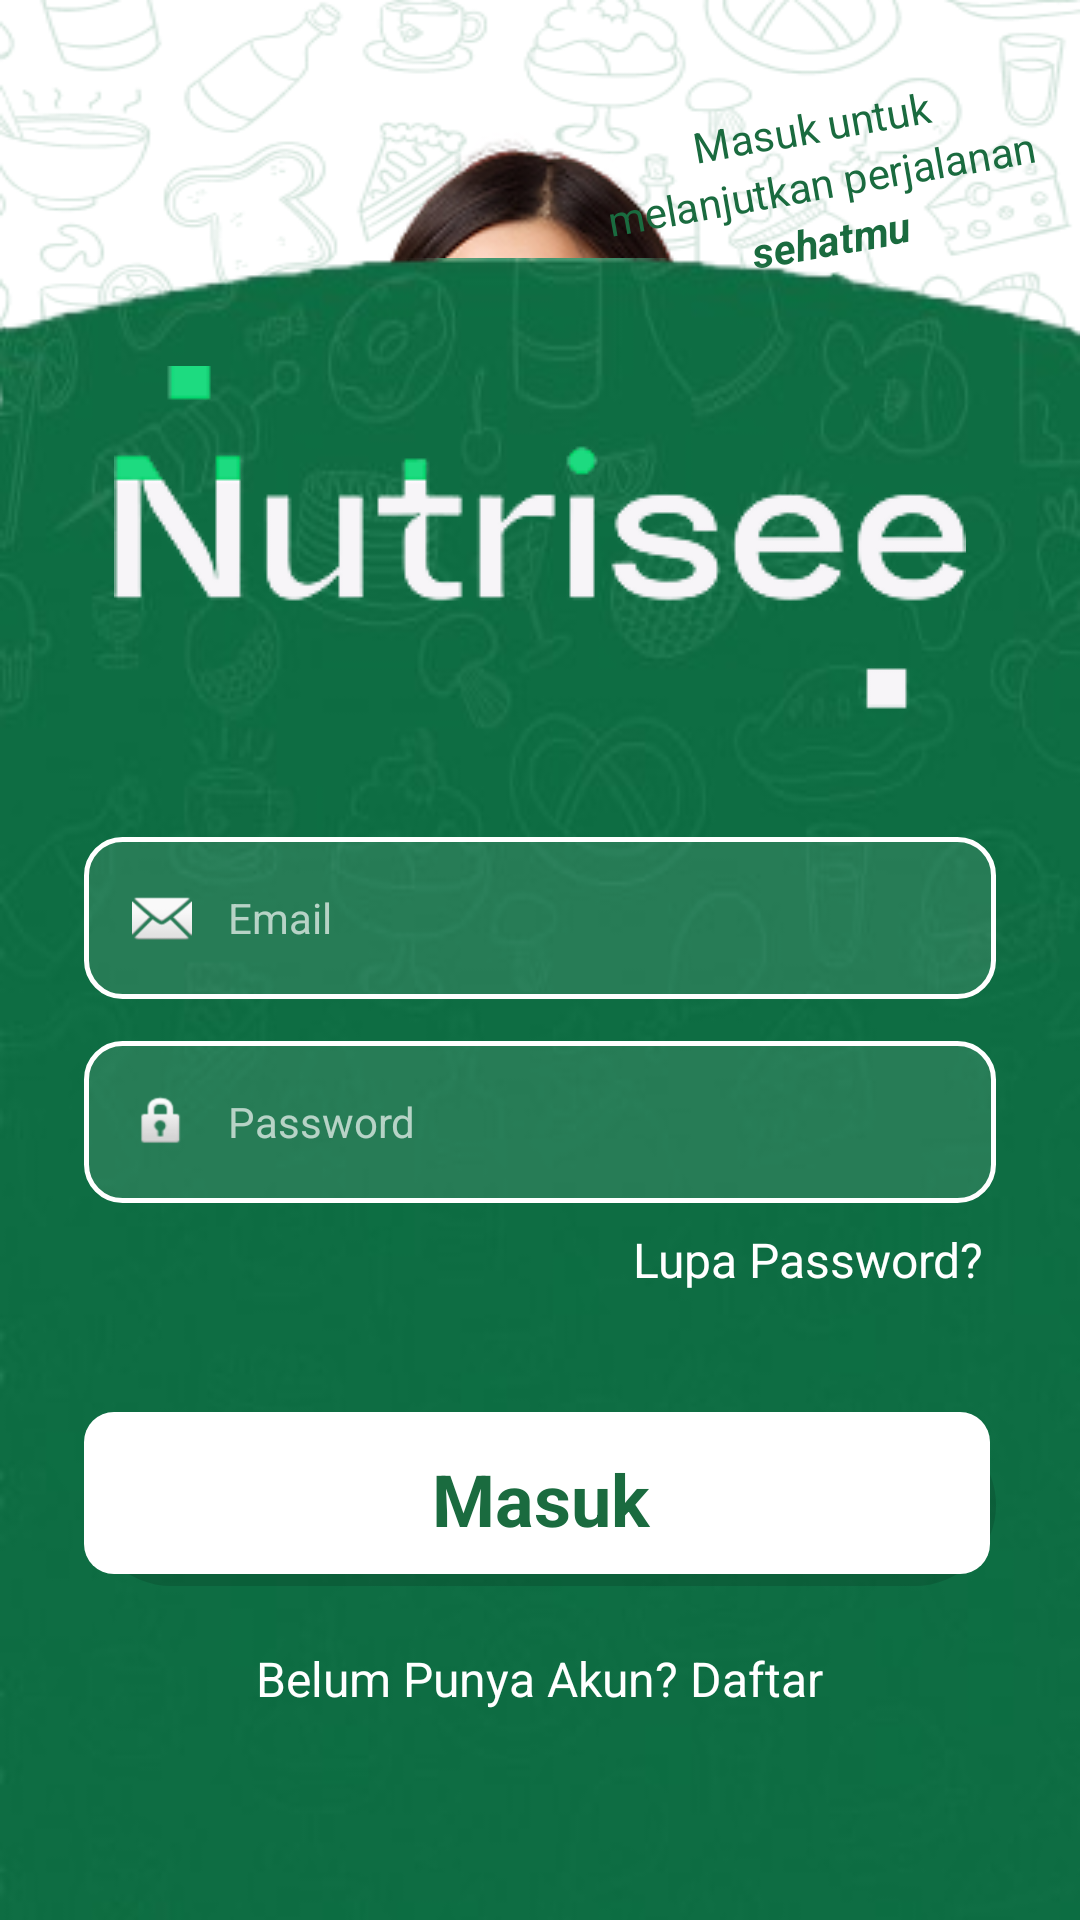

Screen size 1080x1920. Icon name, then its box in pixels as (x1, y1, x2, y2):
lock idle: (141, 1097, 180, 1143)
